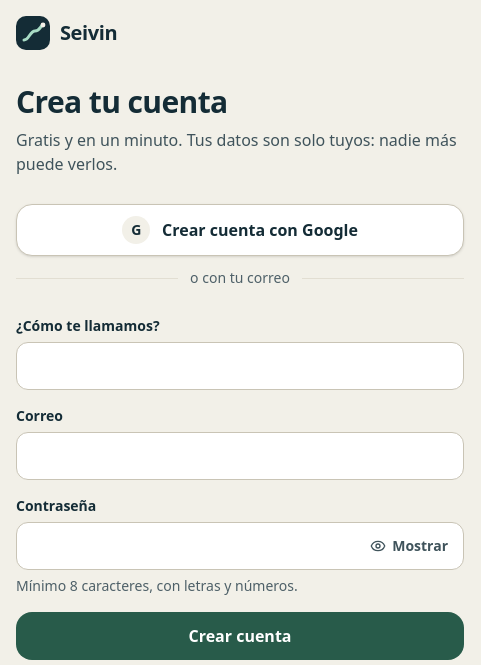
rutas › valida el registro antes de enviar nada
The image size is (481, 665).
Click the button "Crear cuenta" at point(240, 636), box [16,612,464,660]
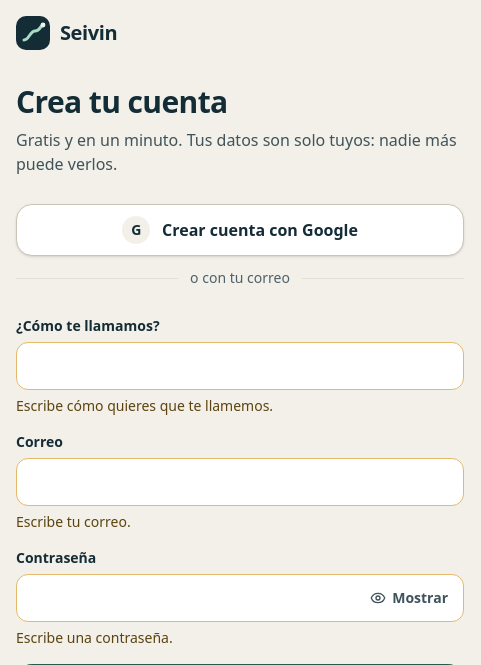
Check: the text "Escribe cómo quieres que te llamemos." is shown, box [16,396,273,415]
Check: the text "Escribe tu correo." is shown, box [16,512,131,531]
Check: the text "Escribe una contraseña." is shown, box [16,628,173,647]
